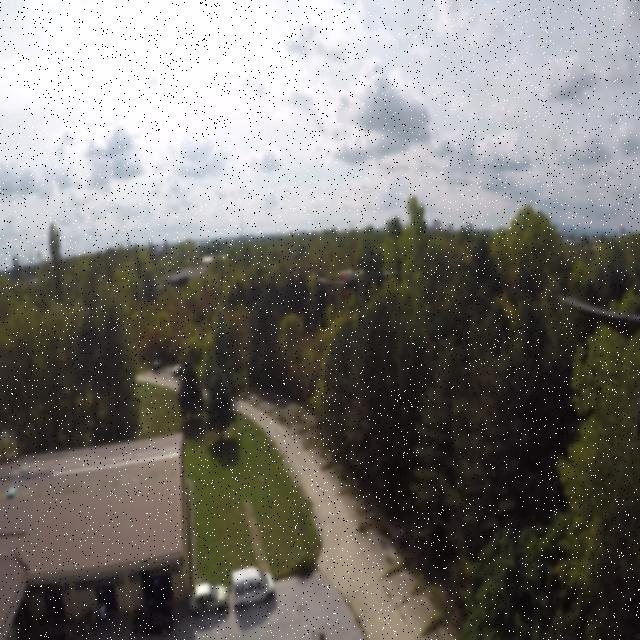UAV: (312, 256, 399, 327)
